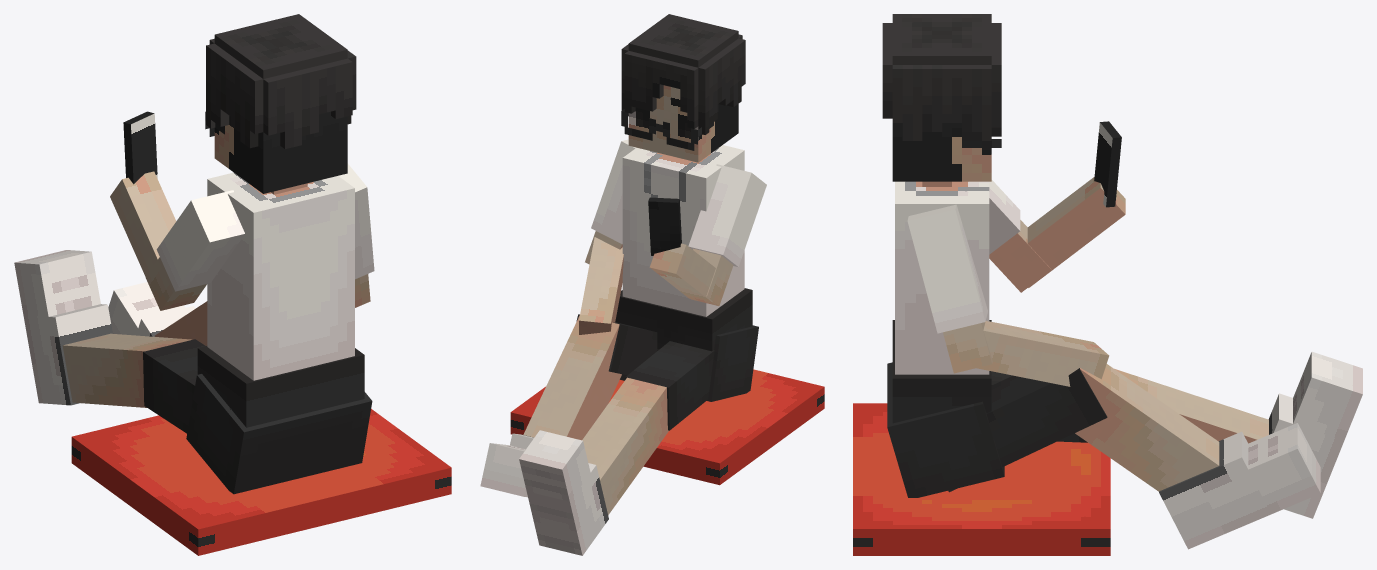
Rendered from char.glb.
The picture shows the model from 3 angles, left to right: view 1: azimuth 30°, elevation 25°; view 2: azimuth 150°, elevation 25°; view 3: azimuth 270°, elevation 25°; orthographic projection. The views are drawn at different scales.
Parts seen in each view (by area): view 1: cube, torso, cube.053, cube.052, cube.051, cube.037, cube.030, cube.019, cube.035, cube.038, cube.033, cube.028 (+16 smaller); view 2: cube, torso, cube.037, cube.036, cube.030, cube.052, cube.035, cube.033, cube.051, cube.038, cube.019, cube.032 (+16 smaller); view 3: cube, torso, cube.036, cube.053, cube.034, cube.040, cube.031, cube.032, cube.019, cube.028, cube.039, cube.051 (+16 smaller).
Boxes of the visible parts, bbox=[...] form: cube: bbox=[71, 409, 451, 555]; torso: bbox=[207, 172, 354, 380]; cube.053: bbox=[186, 374, 372, 494]; cube.052: bbox=[197, 346, 364, 427]; cube.051: bbox=[214, 111, 347, 193]; cube.037: bbox=[62, 333, 191, 407]; cube.030: bbox=[156, 190, 244, 291]; cube.019: bbox=[214, 14, 347, 78]; cube.035: bbox=[23, 304, 112, 405]; cube.038: bbox=[14, 250, 100, 316]; cube.033: bbox=[143, 339, 231, 433]; cube.028: bbox=[110, 171, 176, 276]; cube: bbox=[510, 369, 824, 485]; torso: bbox=[622, 145, 744, 316]; cube.037: bbox=[582, 377, 668, 514]; cube.036: bbox=[523, 315, 621, 440]; cube.030: bbox=[688, 164, 766, 266]; cube.052: bbox=[615, 288, 752, 351]; cube.035: bbox=[526, 463, 608, 555]; cube.033: bbox=[625, 329, 740, 430]; cube.051: bbox=[628, 85, 738, 162]; cube.038: bbox=[519, 430, 590, 501]; cube.019: bbox=[628, 14, 738, 67]; cube.032: bbox=[579, 237, 623, 334]; cube: bbox=[853, 403, 1110, 555]; torso: bbox=[895, 181, 989, 374]; cube.036: bbox=[1075, 364, 1219, 491]; cube.053: bbox=[887, 362, 1004, 497]; cube.034: bbox=[948, 368, 1107, 492]; cube.040: bbox=[1159, 431, 1270, 549]; cube.031: bbox=[907, 204, 987, 333]; cube.032: bbox=[976, 321, 1109, 386]; cube.019: bbox=[892, 14, 991, 64]; cube.028: bbox=[1027, 177, 1125, 287]; cube.039: bbox=[1248, 423, 1320, 514]; cube.051: bbox=[892, 123, 991, 181].
Bounding box in the file's own units: 1.88 × 3.39 × 3.22.
1 material, 1 textured.
